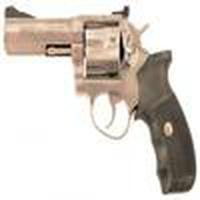gun: (3, 9, 197, 193)
